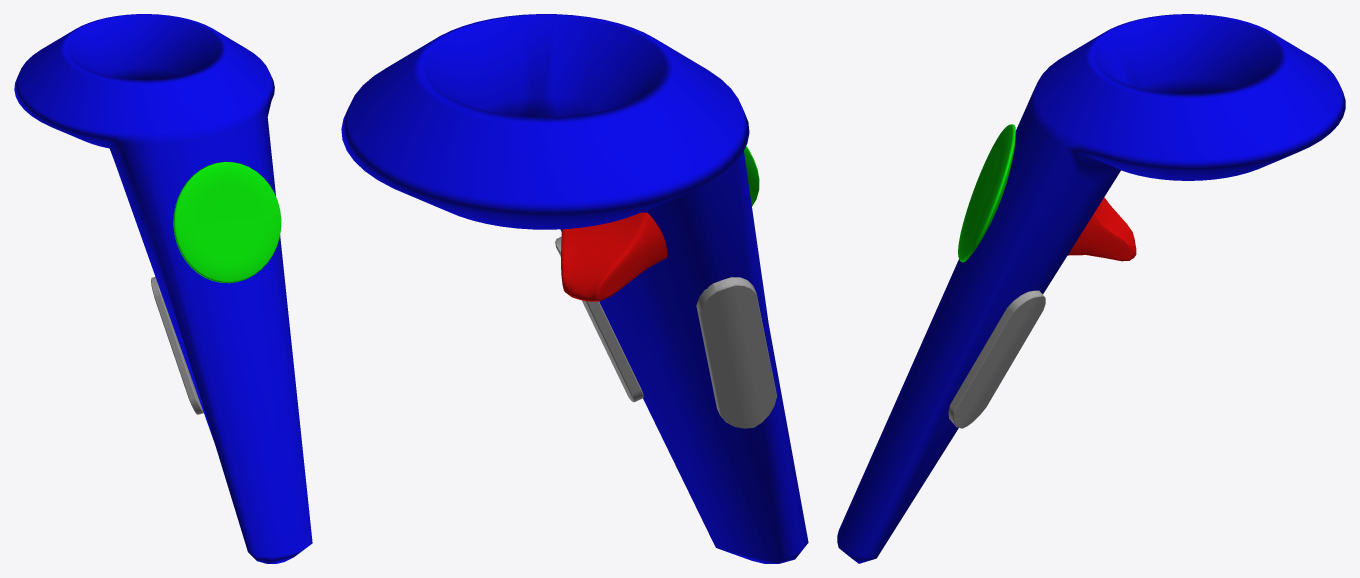
File: vivecon.fbx
3 renders of one model, left to right at view 1: azimuth 30°, elevation 25°; view 2: azimuth 150°, elevation 25°; view 3: azimuth 270°, elevation 25°, orthographic. The views are drawn at different scales.
Visible parts, largest first — view 1: body1; view 2: body1; view 3: body1.
Part boxes in pixels (left/top/right/bottom): body1: left=14, top=14, right=312, bottom=563; body1: left=341, top=14, right=808, bottom=563; body1: left=837, top=14, right=1345, bottom=563.
Size of the model in its own units: 9.3 by 16.38 by 14.97.
